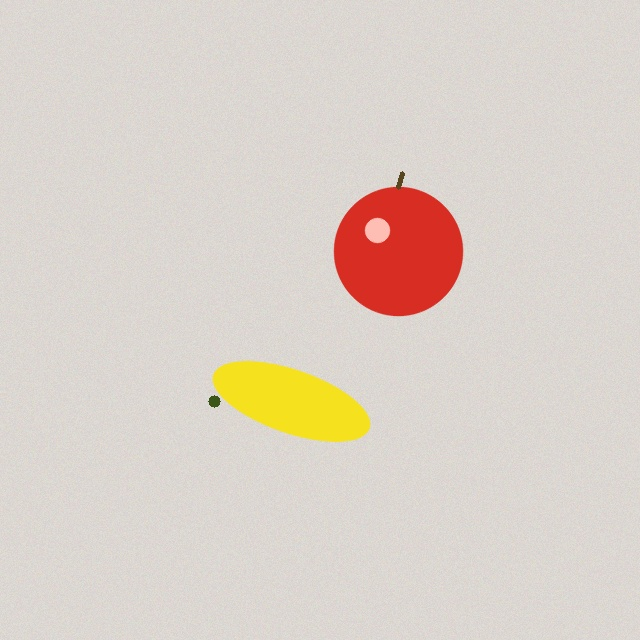Fresh apple: (334, 173, 462, 315)
Fresh banana: (205, 363, 377, 439)
